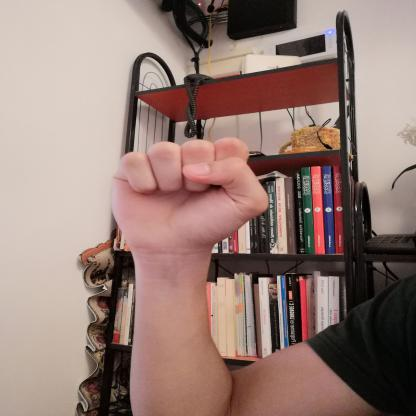SAD: (96, 124, 284, 270)
